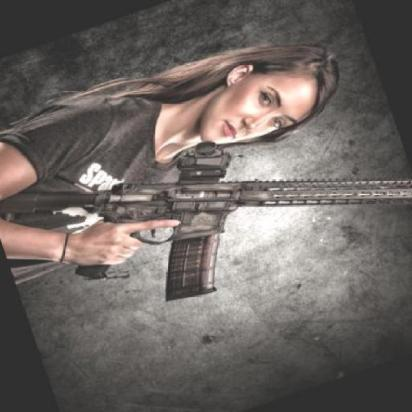Gun: (0, 138, 412, 300)
